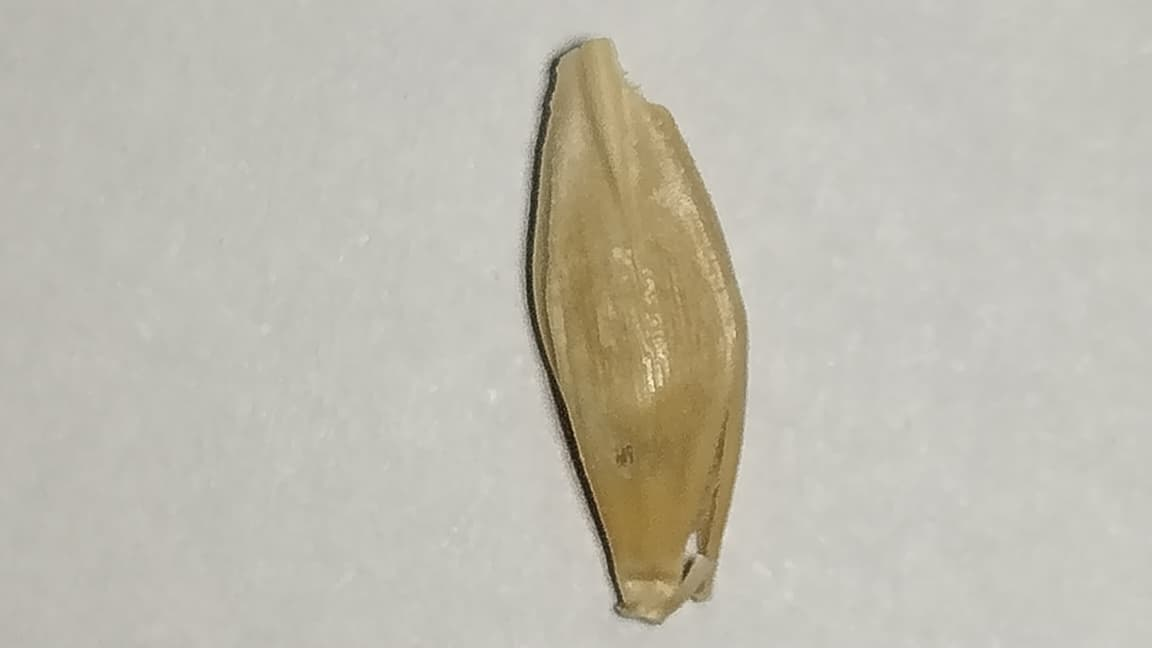healthy-70-60: (532, 41, 745, 617)
